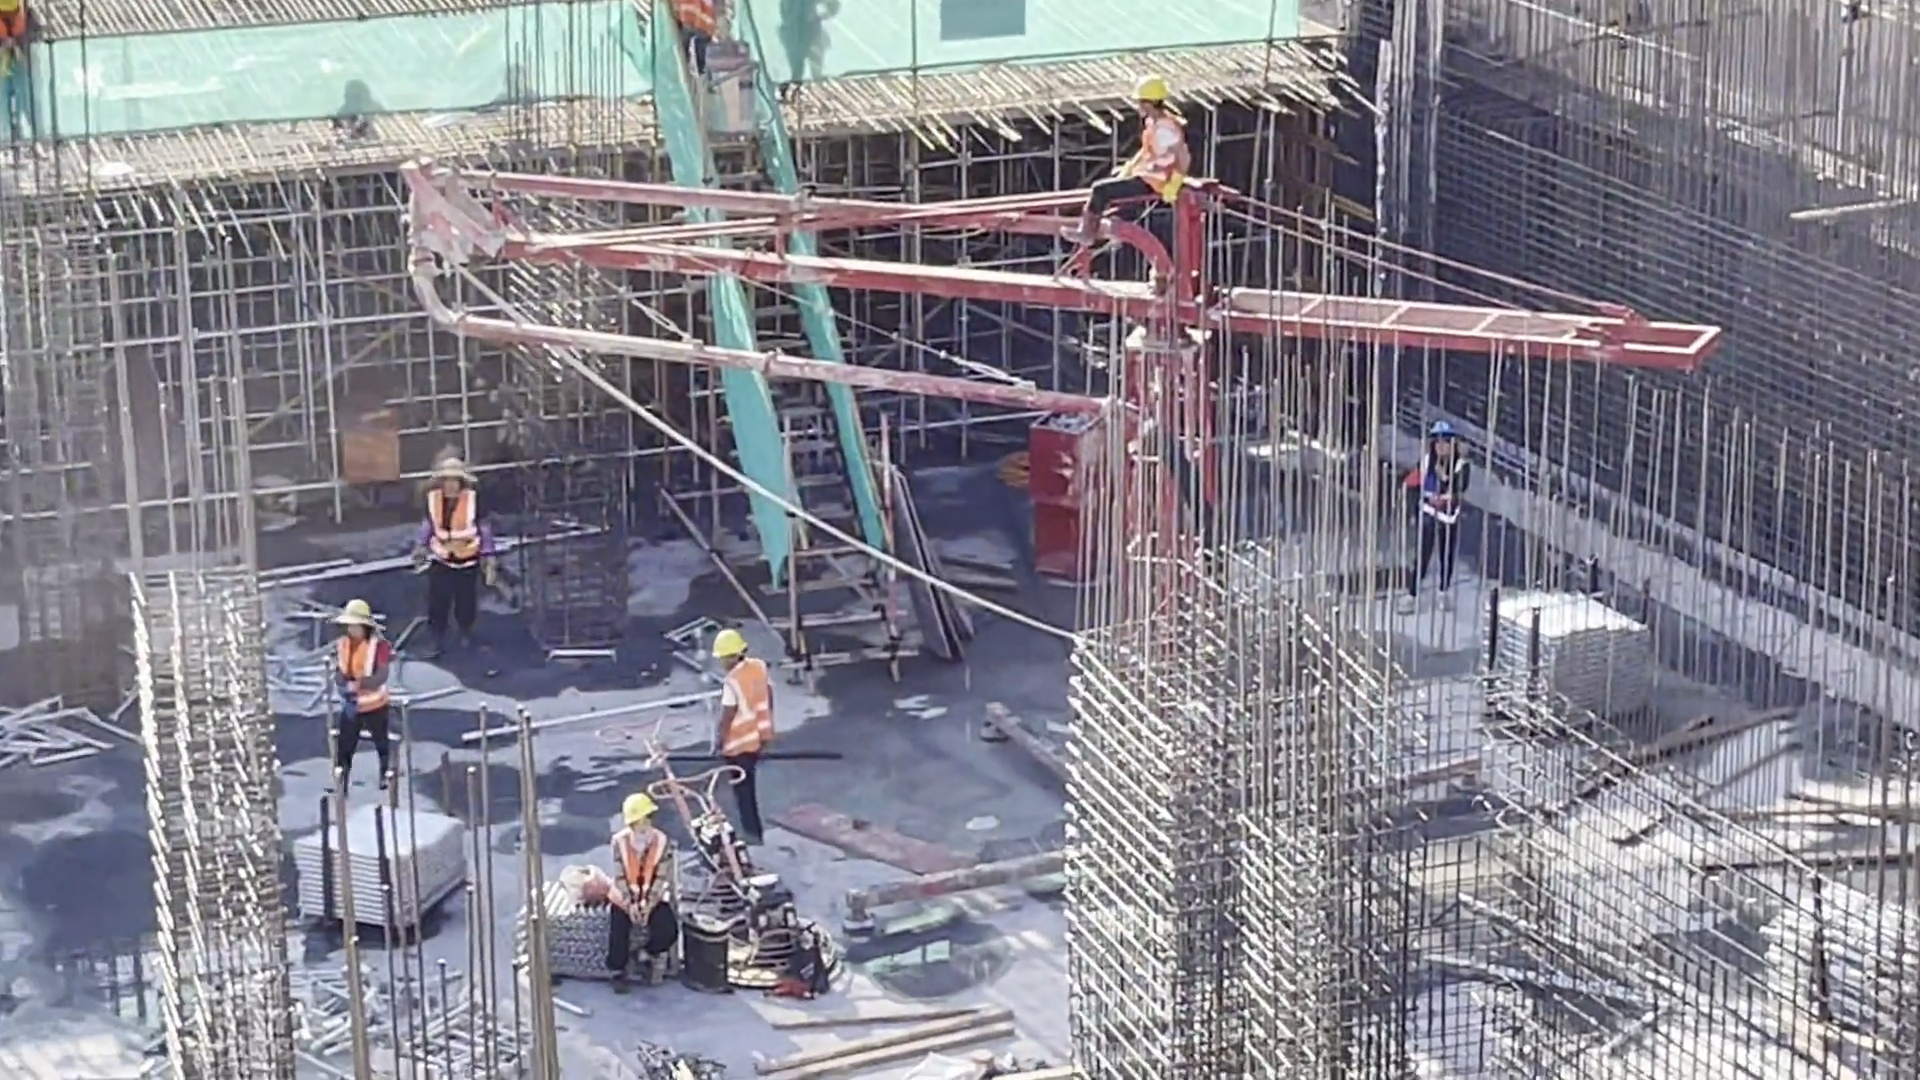helmet: (334, 600, 386, 631), (1134, 83, 1173, 113), (624, 796, 665, 825), (719, 630, 754, 663), (432, 460, 473, 483), (1432, 421, 1462, 446)
person: (1063, 75, 1197, 280), (315, 591, 408, 800), (1395, 420, 1478, 622), (604, 787, 685, 996), (704, 631, 780, 849), (414, 460, 492, 669), (1, 1, 57, 137), (670, 1, 719, 72)
scaffold: (1752, 880, 1920, 1050), (1481, 579, 1629, 721), (296, 815, 445, 916), (529, 901, 615, 970)
vest: (616, 825, 666, 908), (1132, 121, 1186, 196), (425, 491, 482, 561), (331, 638, 388, 708), (721, 665, 766, 750), (1414, 460, 1457, 529), (1, 10, 39, 53), (675, 4, 709, 41)
